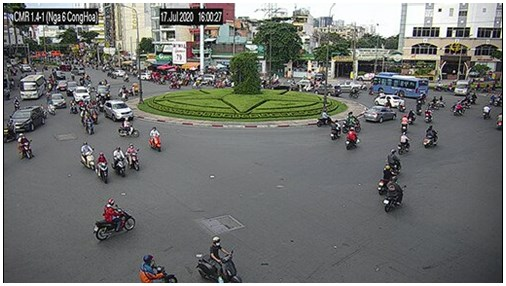xe_buyt: (371, 71, 428, 97), (18, 74, 44, 98)
xe_hoi: (8, 108, 46, 133), (103, 98, 132, 121), (361, 106, 394, 121), (375, 94, 404, 108), (314, 84, 340, 96), (47, 93, 63, 109), (73, 87, 88, 102), (95, 85, 111, 97), (69, 68, 85, 76), (67, 82, 76, 95), (112, 69, 125, 77), (56, 79, 65, 90)
xe_khach: (455, 79, 470, 97)
xe_may: (196, 237, 242, 283), (93, 198, 134, 243), (140, 254, 177, 283), (384, 176, 403, 213), (111, 144, 127, 178), (117, 118, 140, 139), (17, 132, 33, 161), (379, 164, 395, 193), (126, 144, 141, 173), (147, 126, 162, 154), (421, 123, 438, 147), (95, 152, 108, 183), (387, 146, 401, 174), (343, 126, 358, 151), (345, 112, 361, 132), (328, 119, 342, 141), (317, 109, 335, 125), (85, 112, 95, 138), (451, 101, 466, 116), (401, 131, 410, 154), (127, 84, 141, 97), (423, 108, 433, 125), (401, 115, 409, 134), (69, 98, 78, 114), (407, 108, 415, 126), (497, 112, 505, 129), (429, 97, 439, 110), (482, 104, 490, 118), (415, 100, 422, 116), (47, 104, 58, 114), (14, 97, 20, 112), (437, 96, 444, 106)
